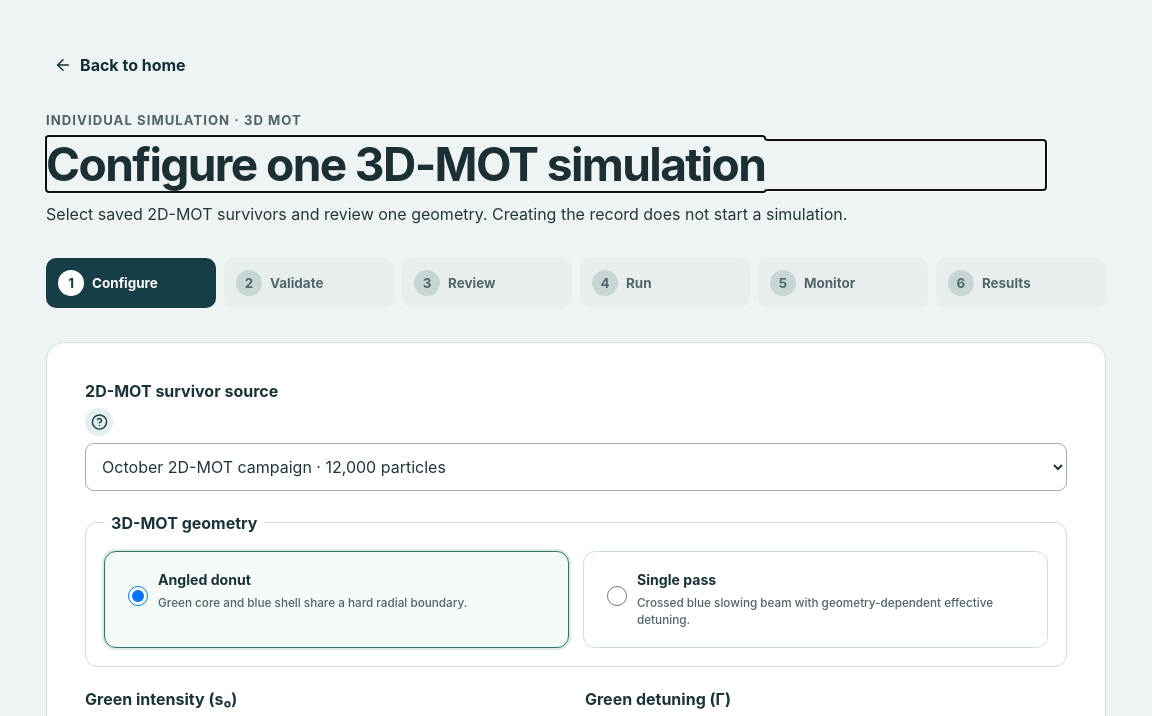
Test: IndividualMot3DRun › shows exact backend-derived single-pass values in review
The image size is (1152, 716).
Step 1. Click the radio button labelled "Single pass" → (617, 596), box [607,572,627,620]
(page scrolled)
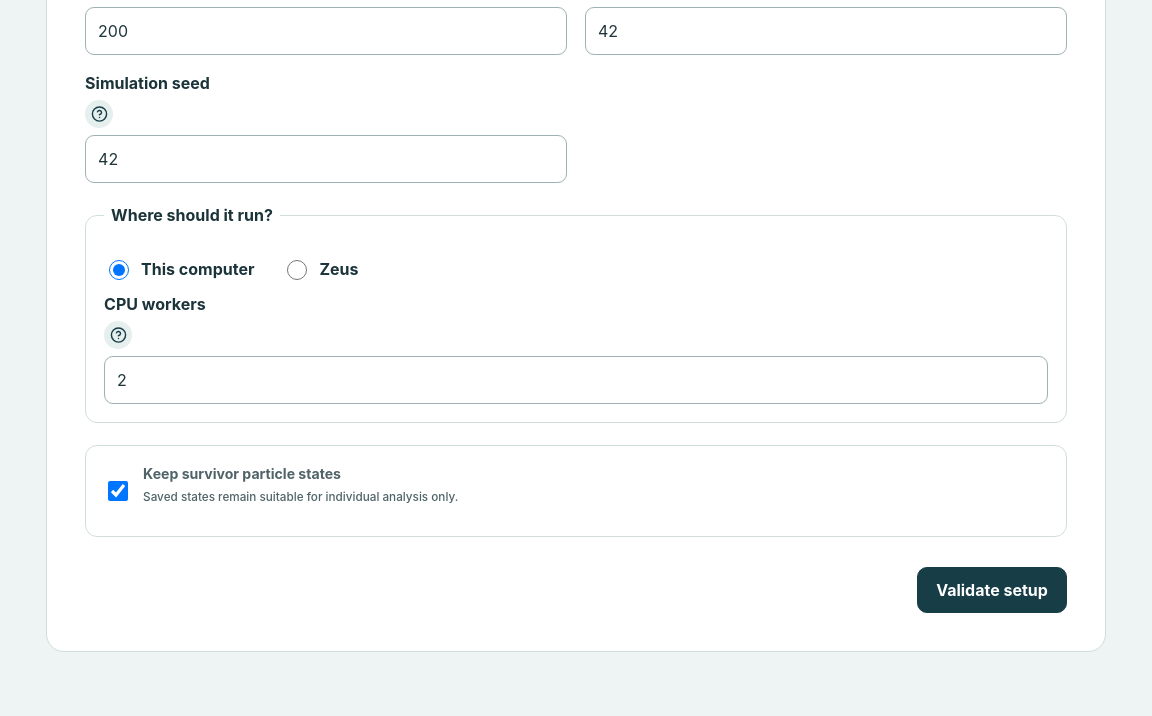
Step 2. Click the button "Validate setup" → (992, 590), box [917,567,1067,613]
(page scrolled)
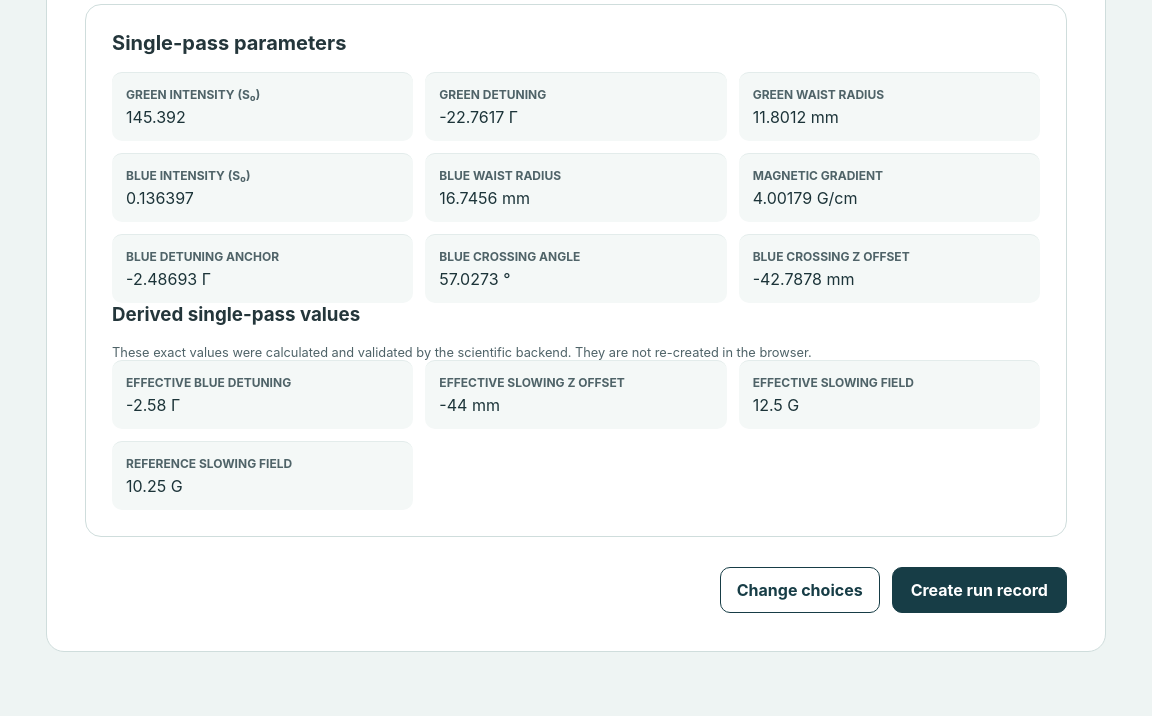
Check: the heading "Derived single-pass values" is shown, box [112,303,360,326]
Check: the text "-2.58 Γ" is shown, box [126,395,180,415]
Check: the text "-44 mm" is shown, box [439,395,500,415]
